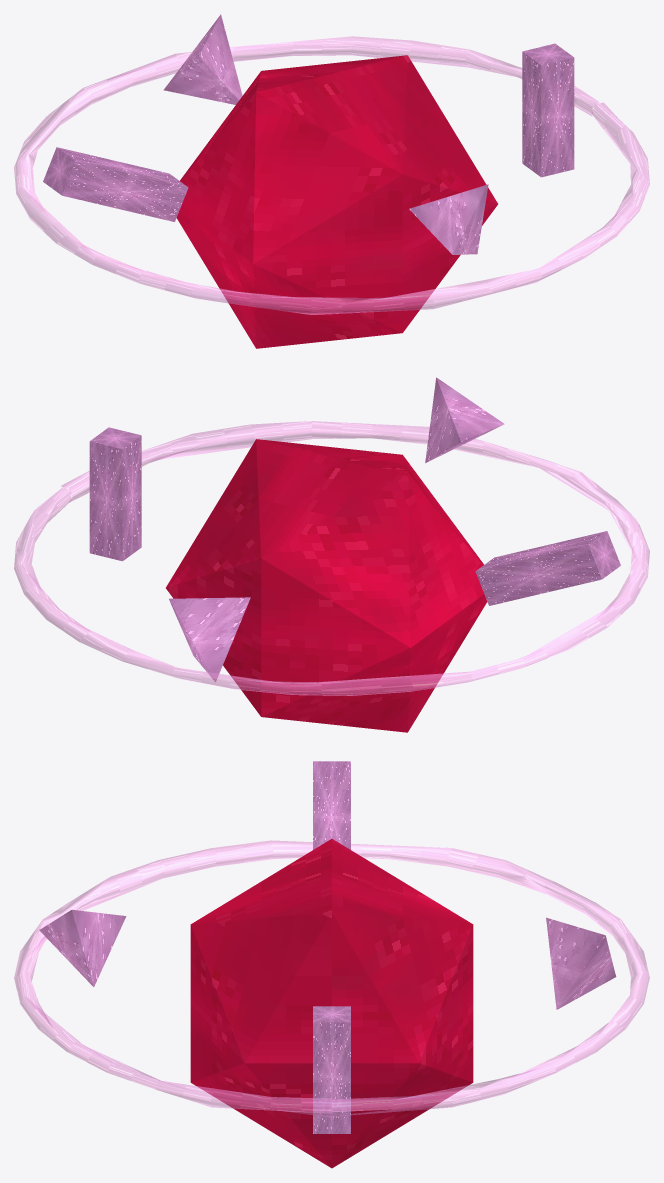
Rendered from anomaly-cluster-rose.low.glb.
3 views of the same model, one above another, from view 1: azimuth 30°, elevation 25°; view 2: azimuth 150°, elevation 25°; view 3: azimuth 270°, elevation 25° (orthographic).
Visible parts, largest first — view 1: shell, ring, orbital-0; view 2: shell, ring, orbital-0; view 3: shell, ring, orbital-0.
Boxes of the visible parts, bbox=[...] form: shell: bbox=[176, 55, 497, 348]; ring: bbox=[14, 36, 649, 314]; orbital-0: bbox=[43, 14, 574, 254]; shell: bbox=[166, 439, 487, 732]; ring: bbox=[14, 421, 649, 695]; orbital-0: bbox=[89, 377, 620, 681]; shell: bbox=[190, 839, 473, 1168]; ring: bbox=[14, 840, 649, 1117]; orbital-0: bbox=[39, 761, 616, 1133].
Bounding box in the file's own units: 2.7 × 1.19 × 2.68.
3 materials, 3 textured.
